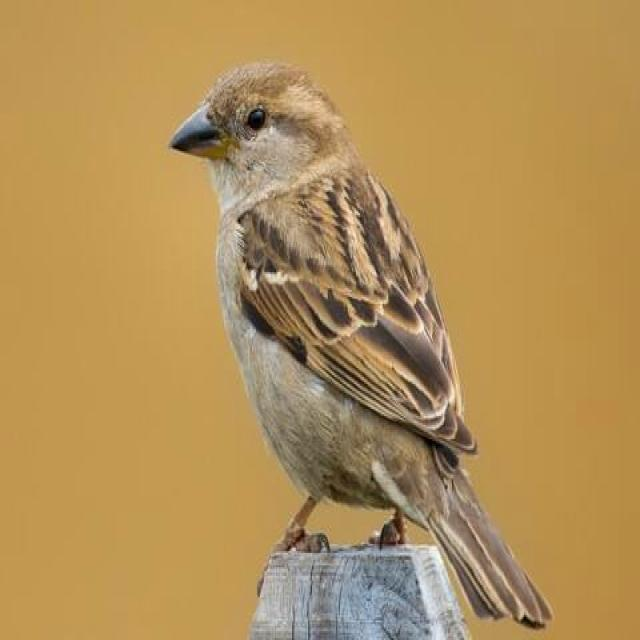sparrow: (171, 62, 552, 626)
